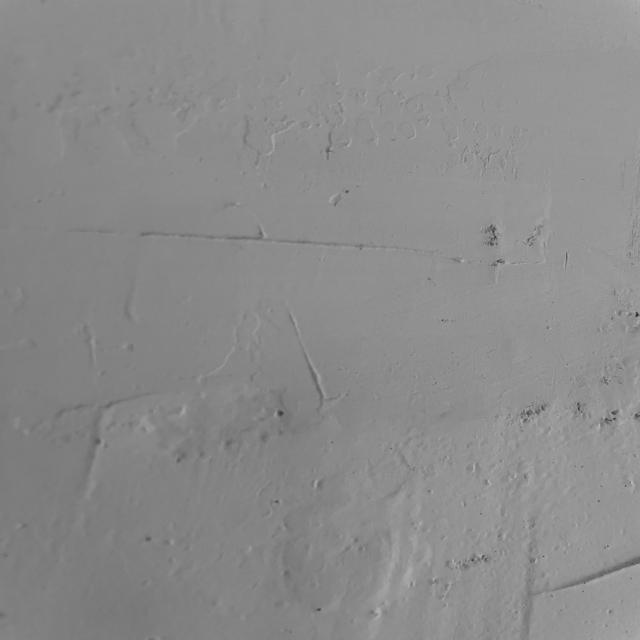rough and patchy surface: (31, 7, 623, 631)
trowels marks: (538, 543, 640, 610)
